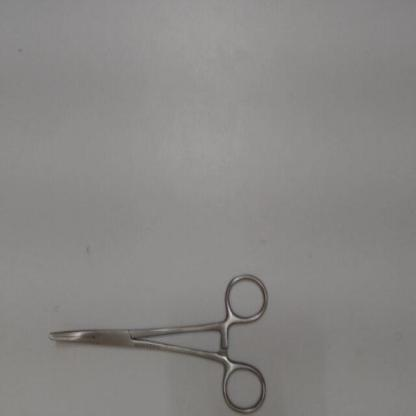Crile Artery Forceps: (44, 267, 271, 416)
